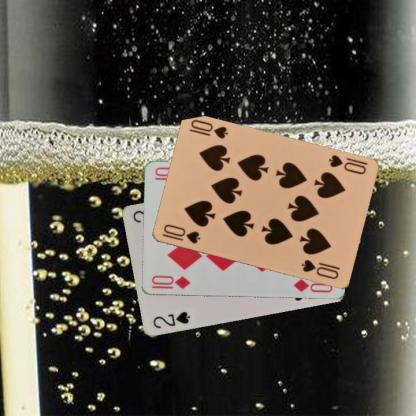10d: (148, 273, 192, 291)
10s: (325, 152, 367, 176), (159, 222, 202, 245)
2s: (150, 309, 191, 330)
